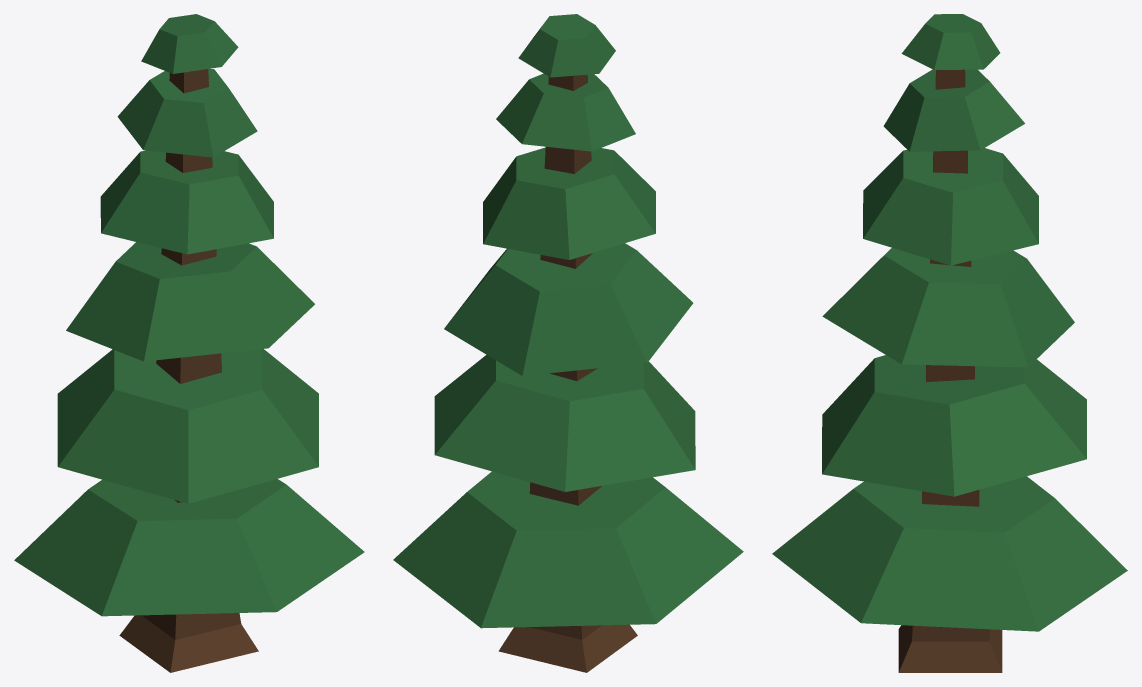
Rendered from tree_pineRoundB.glb.
3 renders of one model, left to right at view 1: azimuth 30°, elevation 25°; view 2: azimuth 150°, elevation 25°; view 3: azimuth 270°, elevation 25°, orthographic.
Visible parts, largest first — view 1: tree_pineRoundB; view 2: tree_pineRoundB; view 3: tree_pineRoundB.
Part boxes in pixels (left/top/right/bottom): tree_pineRoundB: left=14, top=14, right=364, bottom=672; tree_pineRoundB: left=393, top=14, right=743, bottom=672; tree_pineRoundB: left=772, top=14, right=1127, bottom=672.
Bounding box in the file's own units: 0.5322 × 1.2 × 0.6132.
